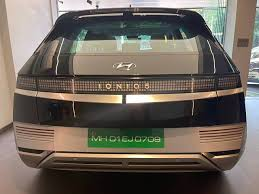Honda Ioniq: (6, 6, 249, 185)
